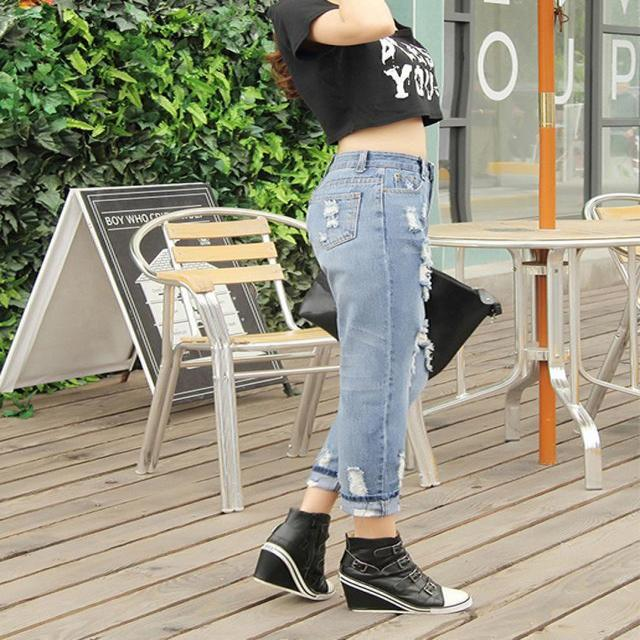short sleeve top: (275, 2, 444, 143)
trousers: (330, 155, 435, 413)
